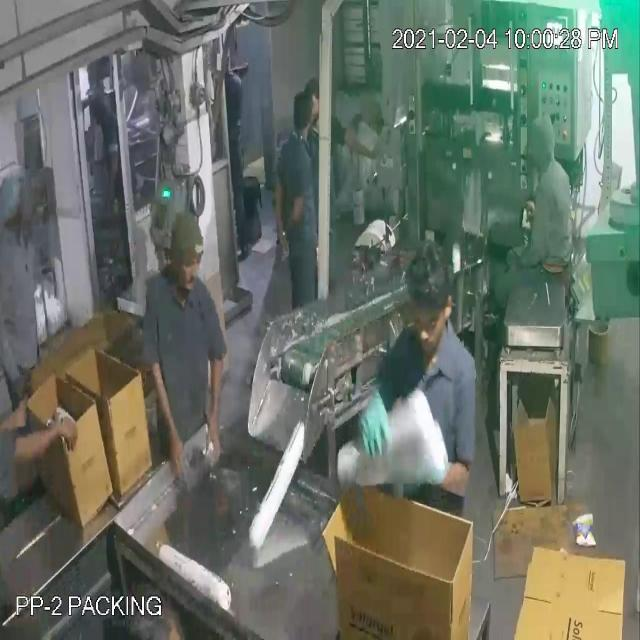No_Gloves: (18, 42, 376, 446)
